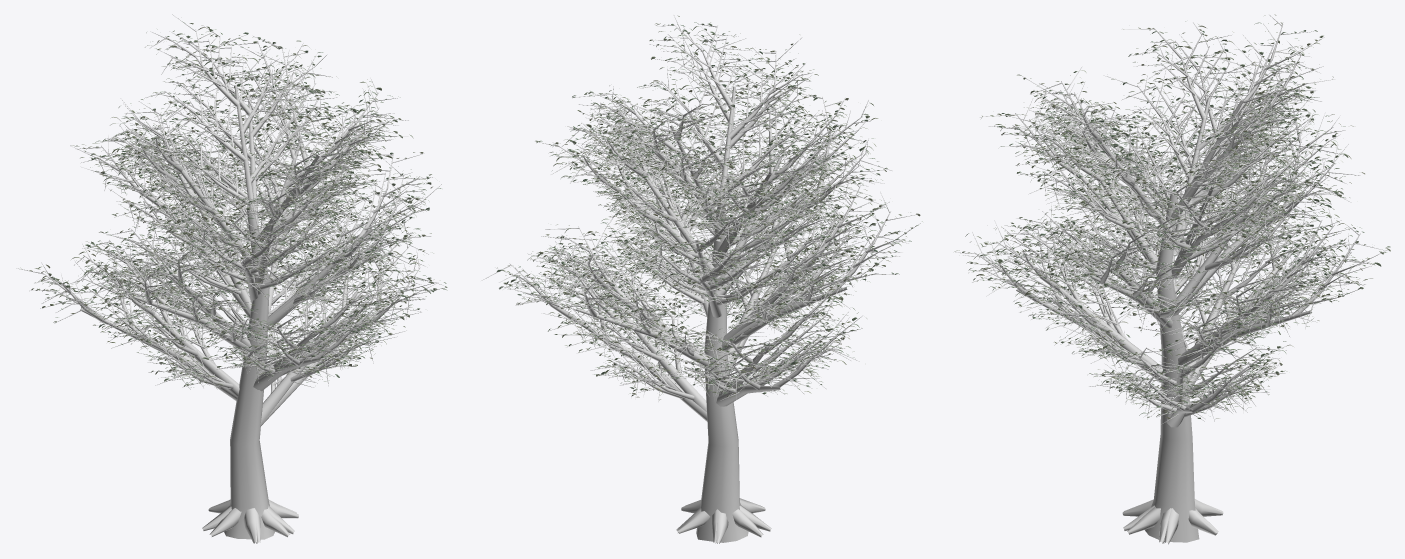
The model's file is park-trees-near.glb.
3 views of the same model, side by side, from view 1: azimuth 30°, elevation 25°; view 2: azimuth 150°, elevation 25°; view 3: azimuth 270°, elevation 25° (orthographic). The views are drawn at different scales.
Parts seen in each view (by area): view 1: Zelkova.near.Bark, Camphor.near.Bark, Camphor.near.Foliage, Zelkova.near.Foliage; view 2: Camphor.near.Bark, Zelkova.near.Bark, Camphor.near.Foliage, Zelkova.near.Foliage; view 3: Zelkova.near.Bark, Camphor.near.Bark, Camphor.near.Foliage, Zelkova.near.Foliage.
Boxes of the visible parts, x1,y1,x2,y2 form: Zelkova.near.Bark: (75, 14, 432, 543); Camphor.near.Bark: (16, 25, 446, 543); Camphor.near.Foliage: (20, 25, 447, 387); Zelkova.near.Foliage: (77, 21, 431, 386); Camphor.near.Bark: (481, 26, 920, 543); Zelkova.near.Bark: (530, 15, 889, 543); Camphor.near.Foliage: (497, 26, 922, 397); Zelkova.near.Foliage: (527, 15, 885, 400); Zelkova.near.Bark: (984, 15, 1352, 543); Camphor.near.Bark: (955, 39, 1387, 544); Camphor.near.Foliage: (954, 37, 1390, 419); Zelkova.near.Foliage: (984, 14, 1355, 418).
Bounding box in the file's own units: 8.39 × 9.76 × 7.87.
